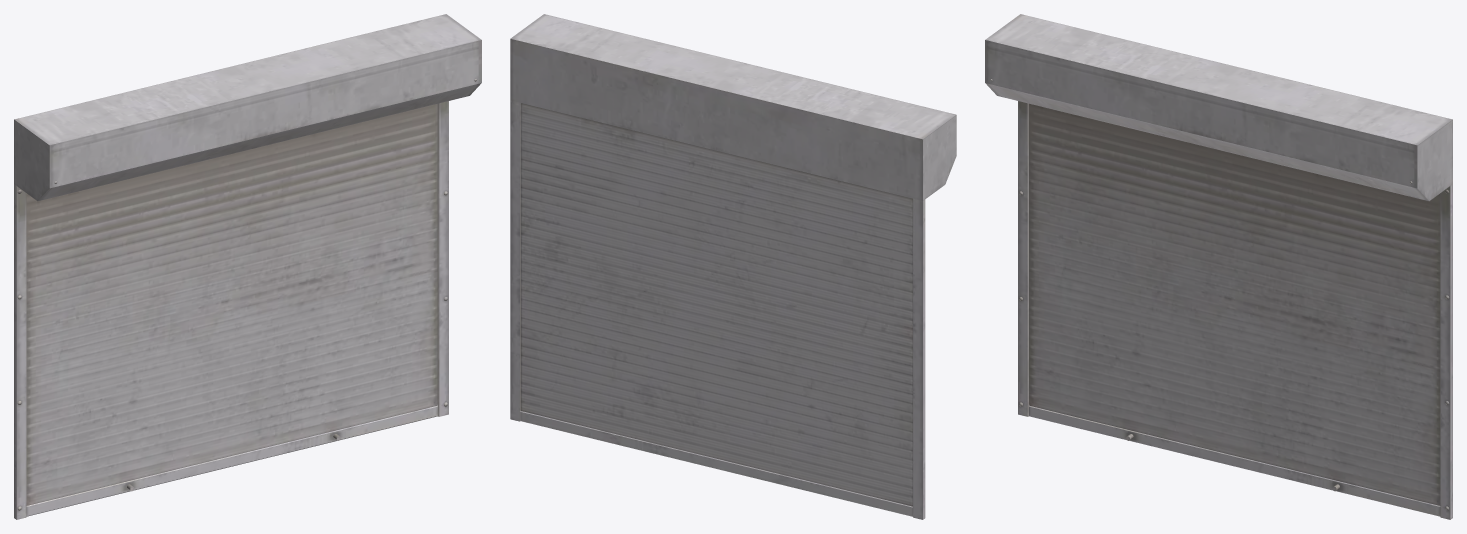
Rendered from rollershutter_window_01.gltf.
3 views of the same model, side by side, from view 1: azimuth 30°, elevation 25°; view 2: azimuth 150°, elevation 25°; view 3: azimuth 330°, elevation 25° (orthographic). The views are drawn at different scales.
Parts seen in each view (by area): view 1: rollershutter_window_01; view 2: rollershutter_window_01; view 3: rollershutter_window_01.
Part boxes in pixels (box(x1,y1,x2,y2)): rollershutter_window_01: box(14, 14, 481, 519); rollershutter_window_01: box(510, 14, 956, 519); rollershutter_window_01: box(985, 14, 1452, 519).
Bounding box in the file's own units: 2.1 × 1.85 × 0.3001.
Materials: 1 (1 with a texture image).
